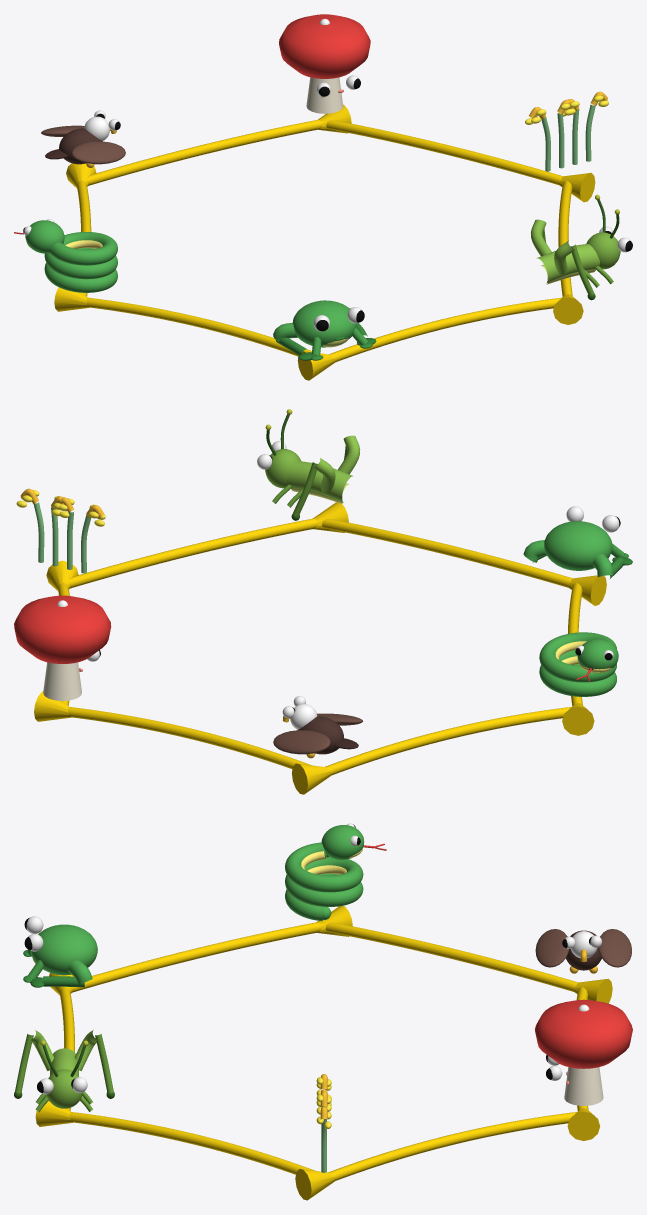
Rendered from eco_sawah_baked.glb.
3 views of the same model, one above another, from view 1: azimuth 30°, elevation 25°; view 2: azimuth 150°, elevation 25°; view 3: azimuth 270°, elevation 25° (orthographic). The views are drawn at different scales.
Parts seen in each view (by area): view 1: ecosystem_preset_group, object 14; view 2: ecosystem_preset_group, object 14; view 3: ecosystem_preset_group, object 14.
Boxes of the visible parts, x1,y1,x2,y2 form: ecosystem_preset_group: (41, 14, 620, 380); object 14: (25, 220, 64, 253); ecosystem_preset_group: (14, 409, 632, 794); object 14: (577, 639, 618, 673); ecosystem_preset_group: (14, 842, 632, 1200); object 14: (321, 825, 364, 859).
Size of the model in its own units: 5.18 by 1.02 by 4.54.
